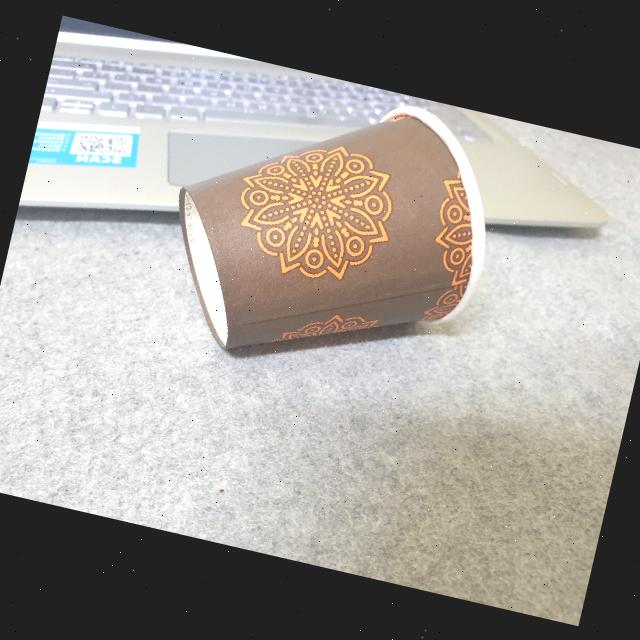trash: (133, 52, 522, 409)
